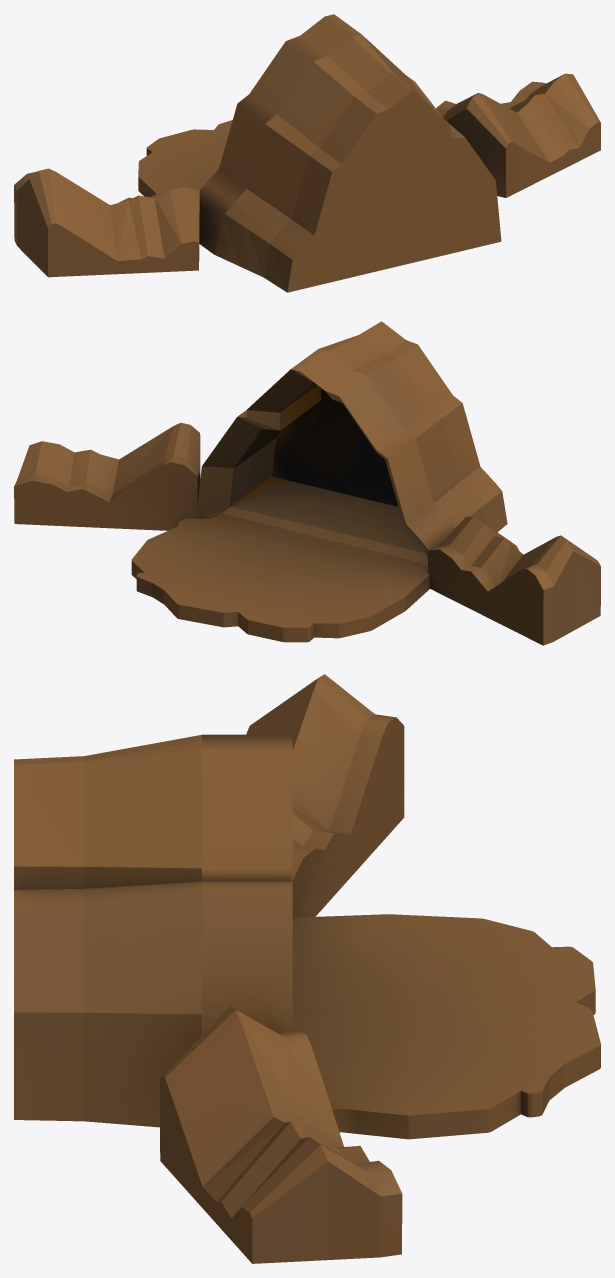
File: Laguna.FBX
The picture shows the model from 3 angles, top to bottom: view 1: azimuth 30°, elevation 25°; view 2: azimuth 150°, elevation 25°; view 3: azimuth 270°, elevation 25°; orthographic projection. The views are drawn at different scales.
Visible parts, largest first — view 1: Laguna; view 2: Laguna; view 3: Laguna.
Part boxes in pixels (x1,y1,x2,y2): Laguna: (14, 14, 600, 292); Laguna: (14, 321, 600, 645); Laguna: (14, 674, 600, 1263).
Size of the model in its own units: 38.62 by 12.65 by 21.62.
